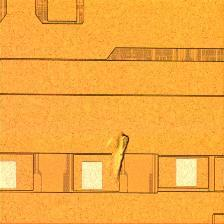PIQ PARTICLE: (103, 128, 136, 189)
